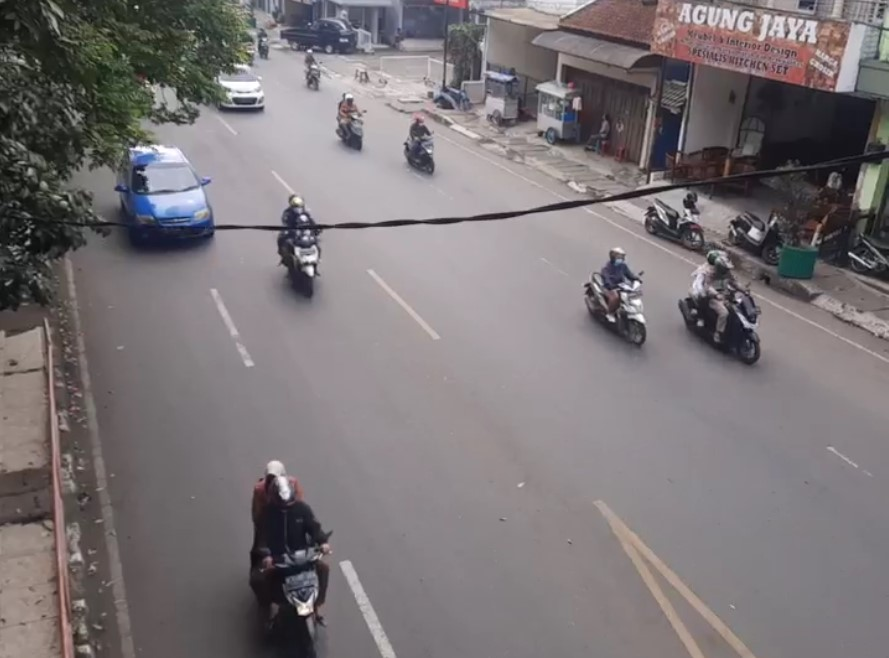mobil: (101, 129, 225, 246)
motor: (226, 452, 345, 656), (675, 250, 758, 365), (583, 247, 651, 348), (274, 194, 325, 298), (398, 117, 441, 174), (330, 95, 369, 150)
